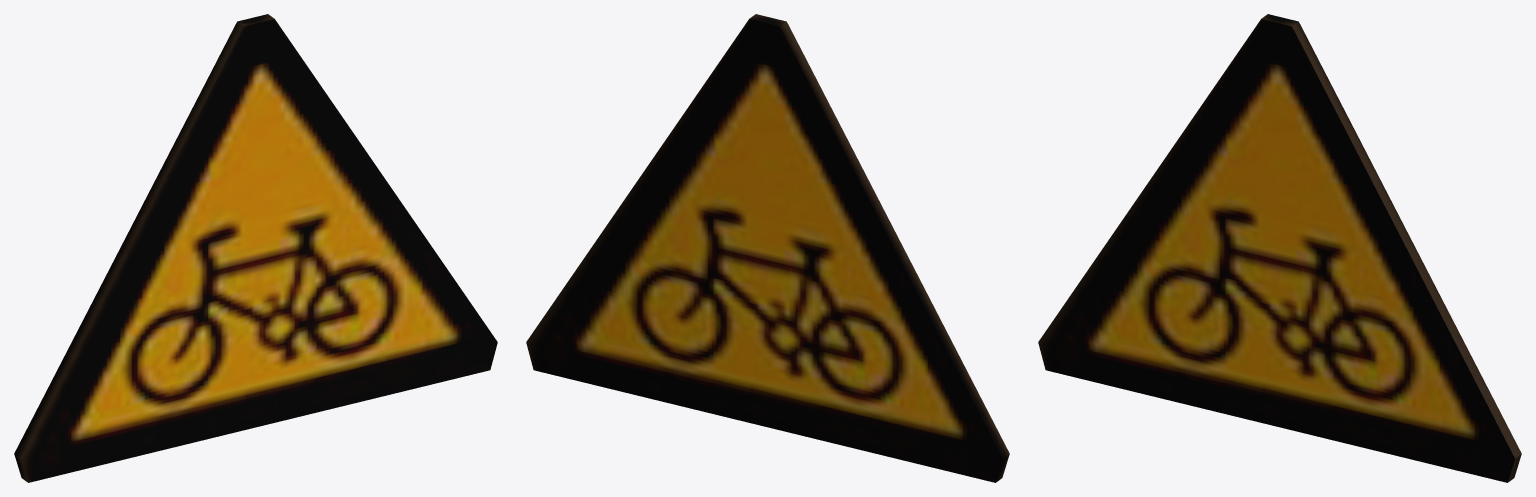
The model's file is mesh_ban01.FBX.
The picture shows the model from 3 angles, left to right: view 1: azimuth 30°, elevation 25°; view 2: azimuth 150°, elevation 25°; view 3: azimuth 330°, elevation 25°; orthographic projection.
Parts seen in each view (by area): view 1: mesh_ban01; view 2: mesh_ban01; view 3: mesh_ban01.
Part boxes in pixels (x1,y1,x2,y2): mesh_ban01: (14, 14, 497, 482); mesh_ban01: (526, 14, 1009, 482); mesh_ban01: (1038, 14, 1521, 482).
Bounding box in the file's own units: 88.62 × 71.72 × 2.16.
